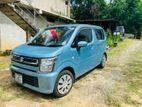car: (11, 24, 108, 97)
